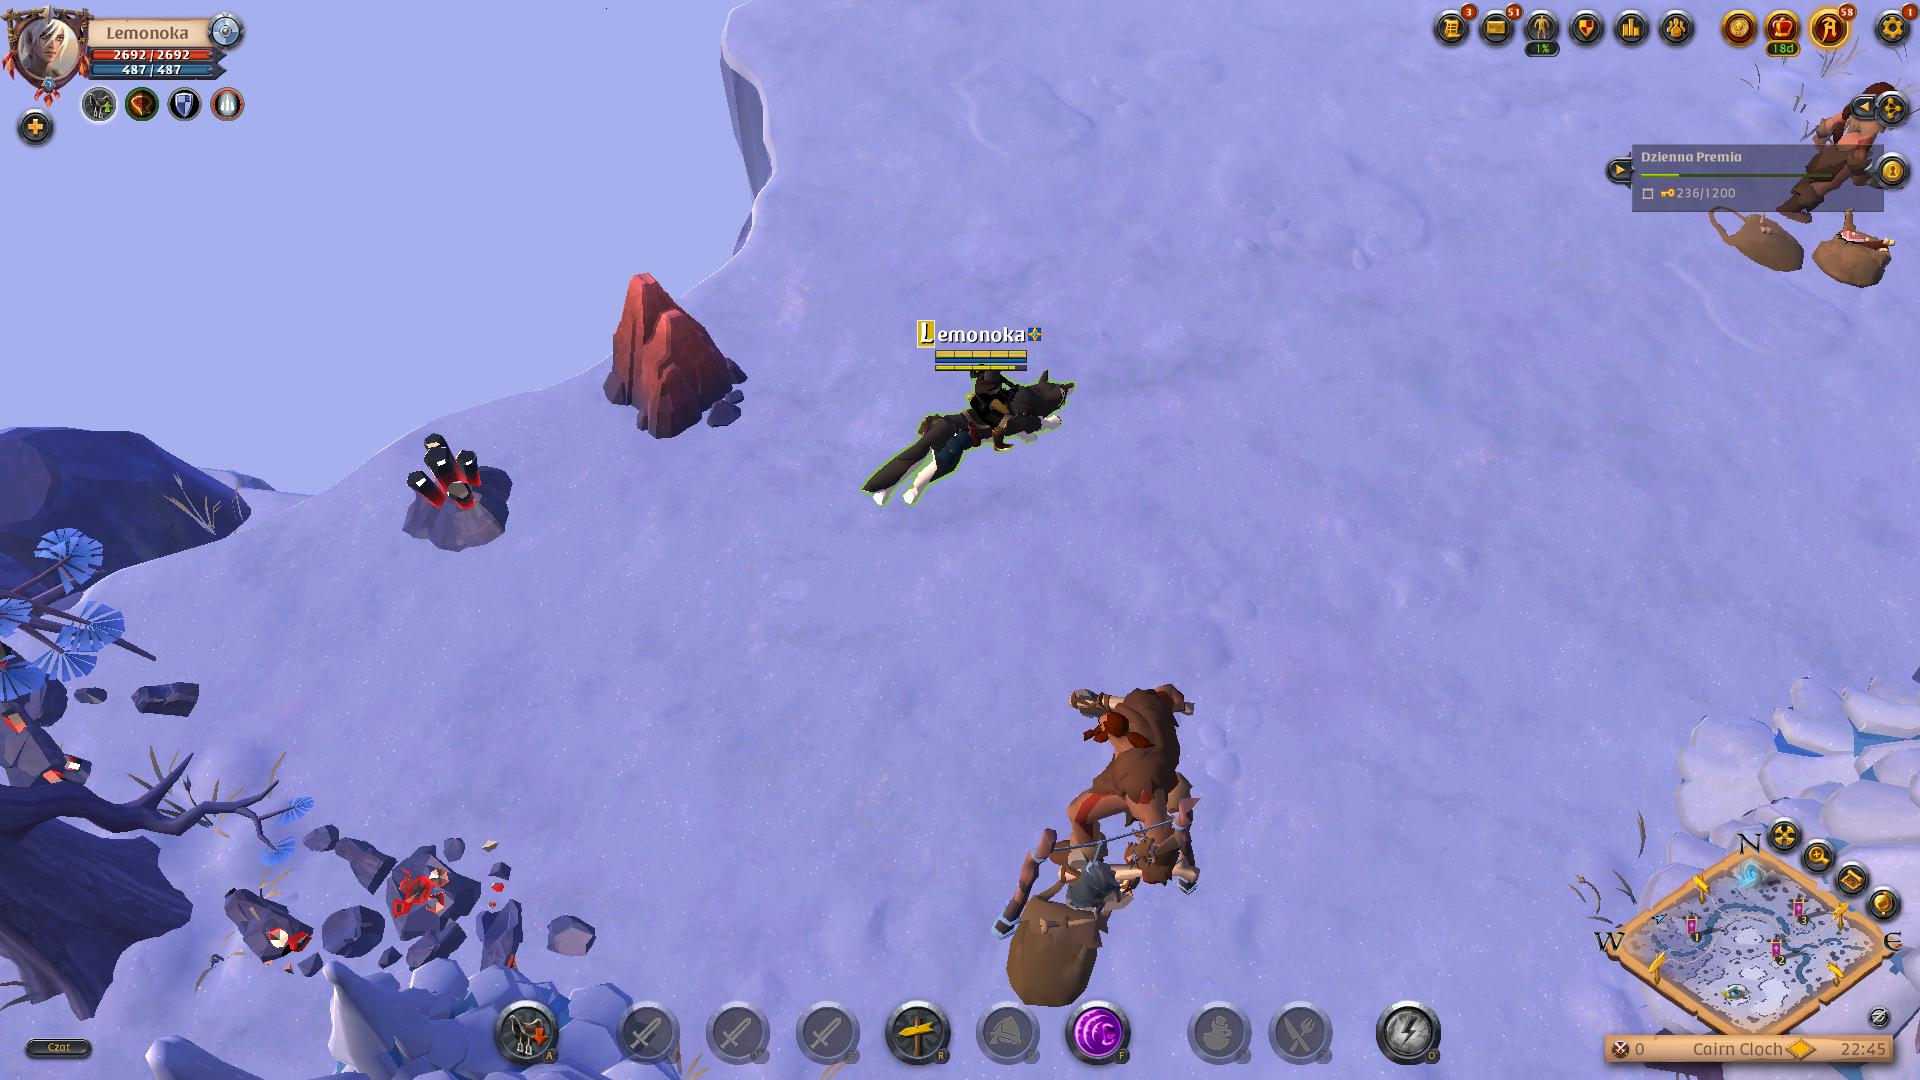ore tier 5: (389, 433, 512, 553)
rock tier 5: (601, 268, 756, 444)
